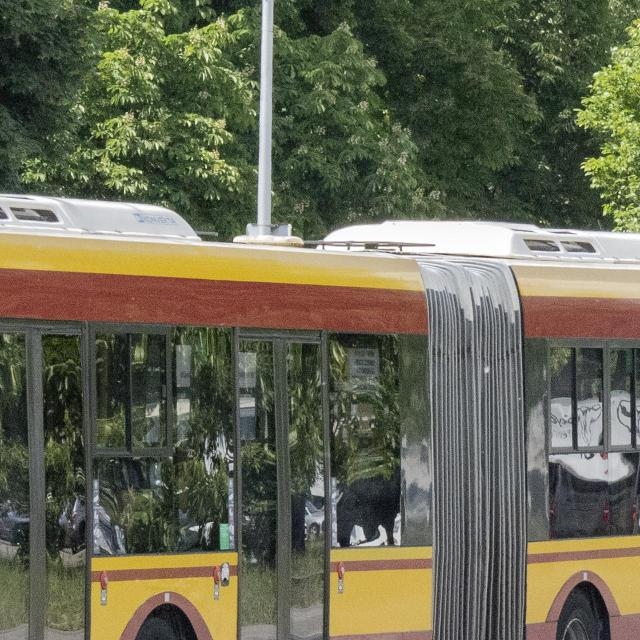Bus: (0, 195, 640, 640)
